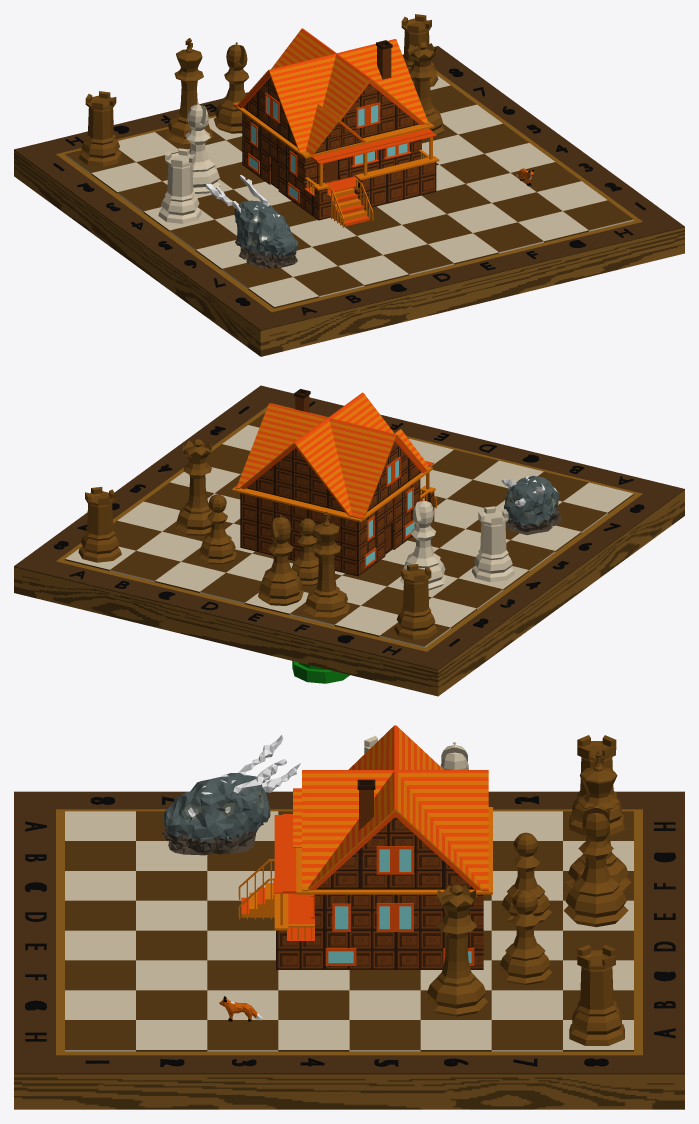
3 views of the same model, one above another, from view 1: azimuth 30°, elevation 25°; view 2: azimuth 150°, elevation 25°; view 3: azimuth 270°, elevation 25° (orthographic). The views are drawn at different scales.
Visible parts, largest first — view 1: Cube.002, Cube, OBJRANDOM_METEORITE; view 2: Cube.002, Cube, OBJRANDOM_METEORITE, UNDERGROUND_PIPES; view 3: Cube.002, Cube, OBJRANDOM_METEORITE.
Part boxes in pixels (box(x1,y1,x2,y2)): Cube.002: box(14, 14, 684, 356); Cube: box(232, 28, 439, 227); OBJRANDOM_METEORITE: box(205, 175, 298, 268); Cube.002: box(14, 385, 684, 696); Cube: box(232, 389, 436, 576); OBJRANDOM_METEORITE: box(501, 475, 561, 534); UNDERGROUND_PIPES: box(292, 661, 349, 683); Cube.002: box(14, 735, 684, 1109); Cube: box(238, 725, 492, 969); OBJRANDOM_METEORITE: box(162, 735, 300, 855).
Size of the model in its own units: 3981 by 2068 by 4012.
Materials: 24 (3 with a texture image).
